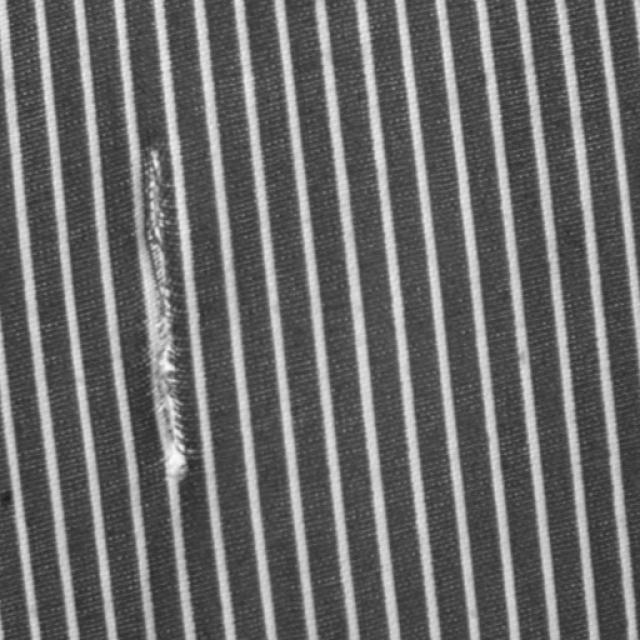Hole-Defect: (144, 148, 195, 479)
